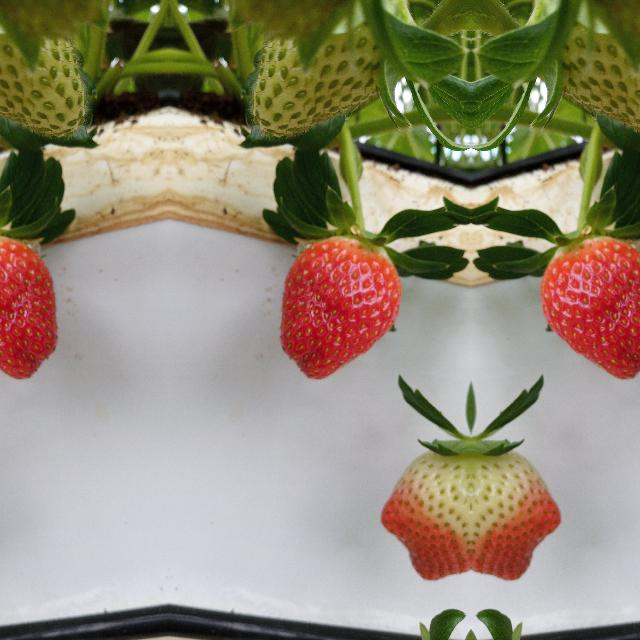Health_100: (278, 234, 402, 380), (539, 234, 640, 379), (0, 234, 58, 379)
Health_25: (245, 15, 385, 143), (0, 15, 91, 143), (556, 15, 640, 143)
Health_50: (470, 437, 558, 583), (384, 437, 471, 583)
